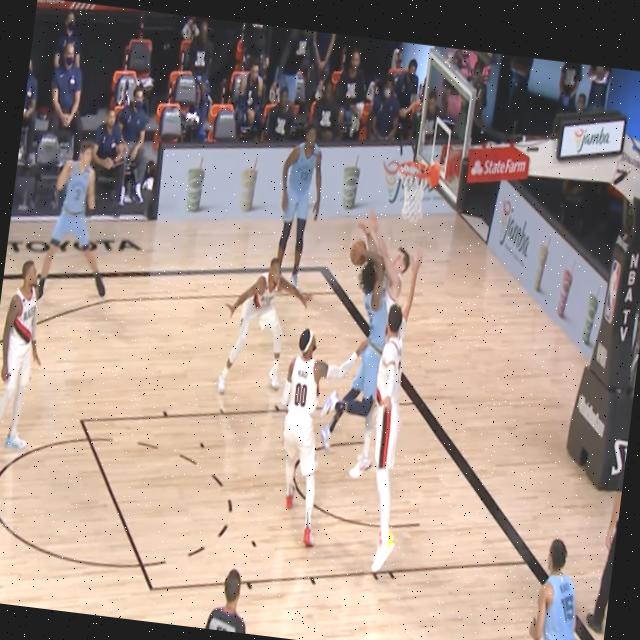foul: (316, 202, 433, 494)
no foul: (336, 294, 427, 584), (255, 326, 356, 554)
